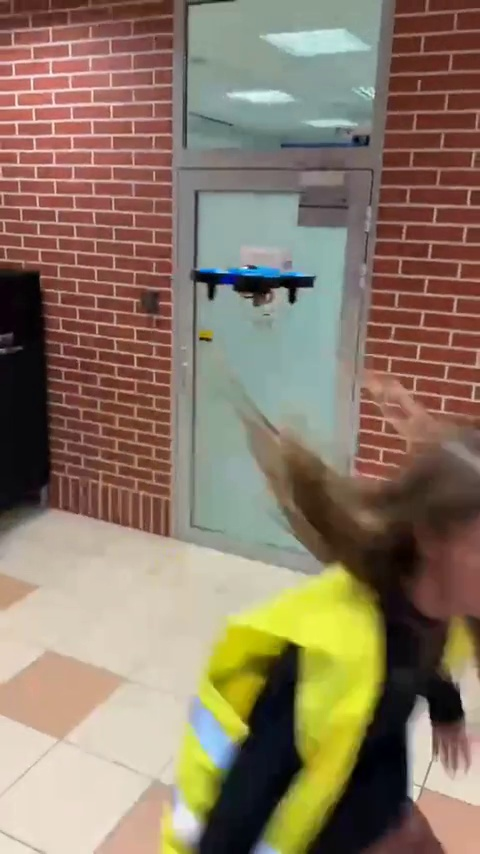drone: (188, 253, 322, 306)
vest: (219, 428, 480, 854)
